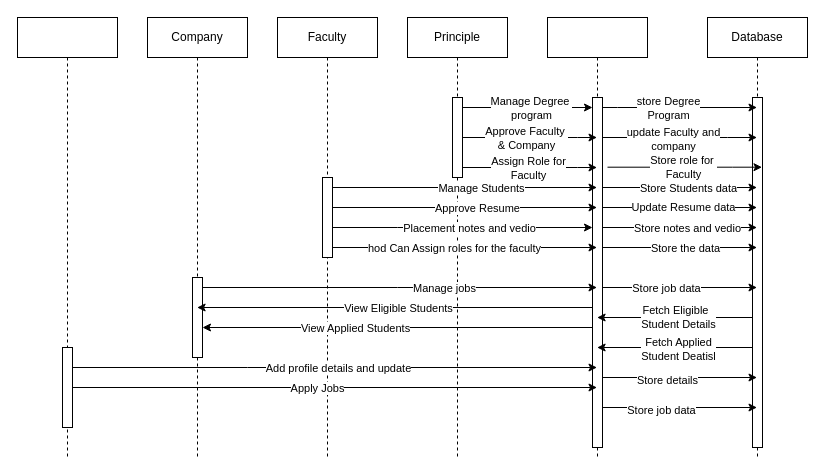
This 825x475 diagram has some shape labels left out. The box of each missing label's shape, as (x1, y1, x2, y2) in pixels:
Student: (16, 16, 118, 458)
Website: (546, 16, 648, 458)
